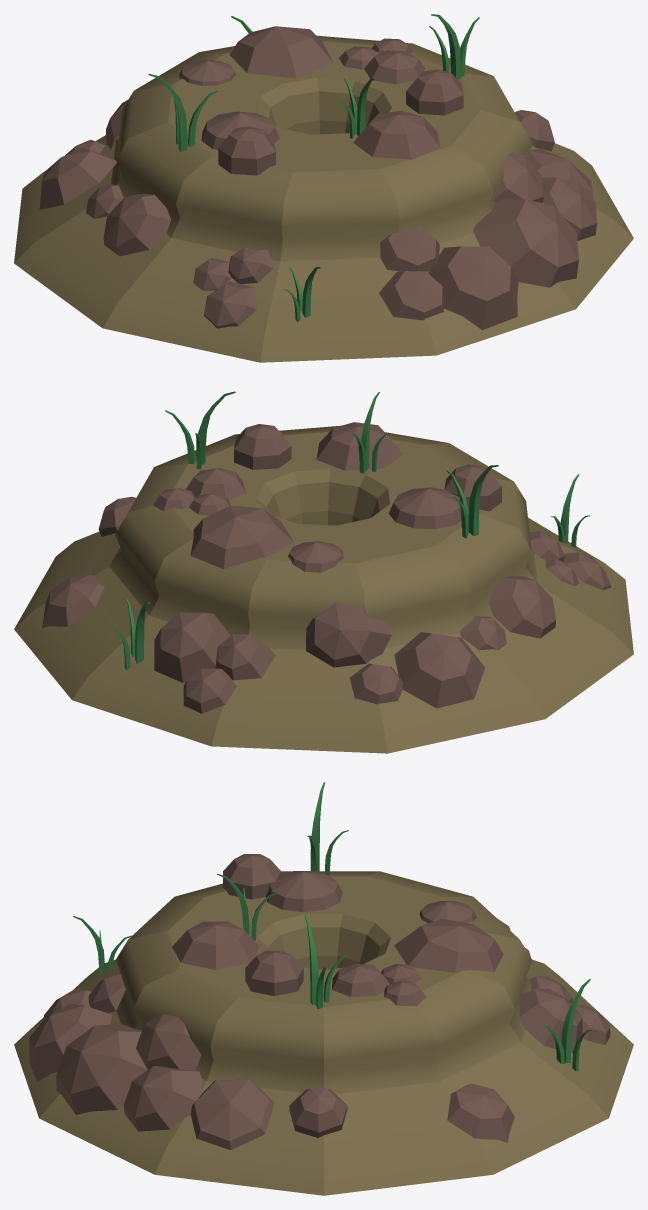
File: BeetleNest 1.fbx
The picture shows the model from 3 angles, top to bottom: view 1: azimuth 30°, elevation 25°; view 2: azimuth 150°, elevation 25°; view 3: azimuth 270°, elevation 25°; orthographic projection.
Parts seen in each view (by area): view 1: polySurface44, Rocks, Grass; view 2: polySurface44, Rocks, Grass; view 3: polySurface44, Rocks, Grass.
Part boxes in pixels (<box>): polySurface44: <box>14,35,633,362</box>; Rocks: <box>39,26,597,330</box>; Grass: <box>148,14,479,322</box>; polySurface44: <box>14,425,633,753</box>; Rocks: <box>42,422,610,713</box>; Grass: <box>107,391,589,670</box>; polySurface44: <box>14,871,633,1195</box>; Rocks: <box>29,854,610,1150</box>; Grass: <box>73,782,592,1071</box>.
Bounding box in the file's own units: 5.61 × 2.09 × 5.67.
